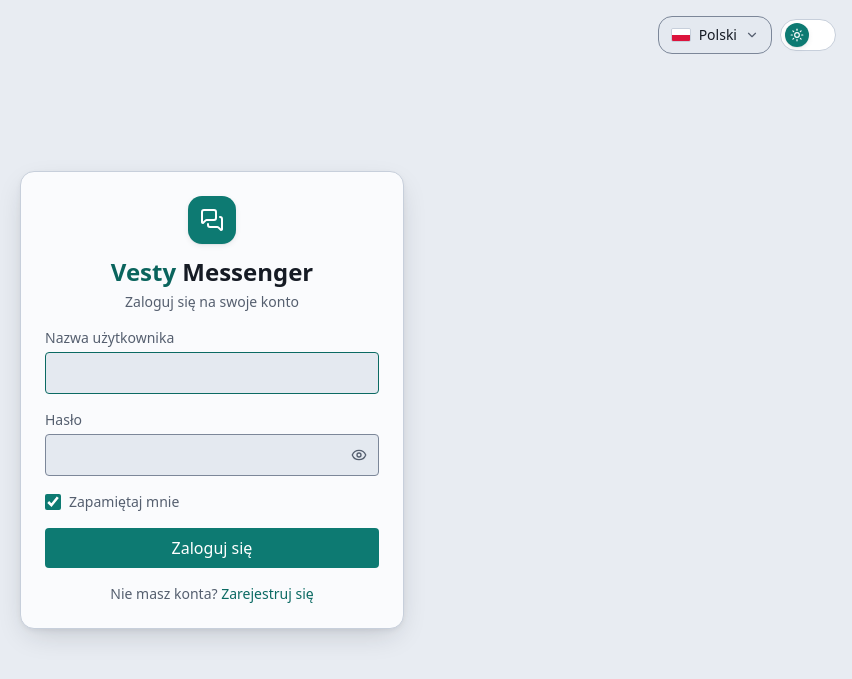
LoginPage › asks for the missing fields in Polish
Step 1. Click the button "Zaloguj się" → (212,548), box [45,528,379,568]
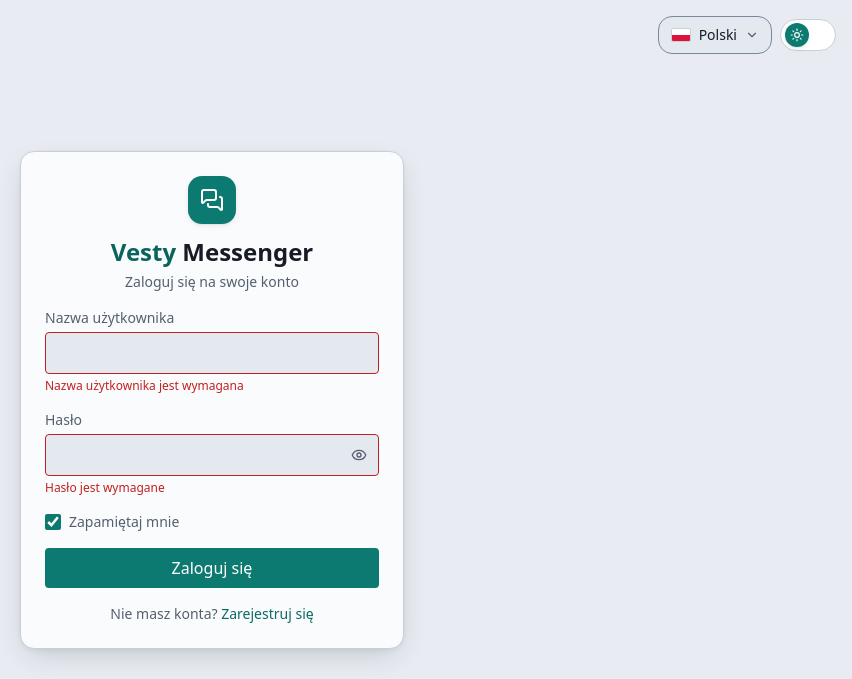
expect the text "Nazwa użytkownika jest wymagana" is shown: met, box [45,377,244,394]
expect the text "Hasło jest wymagane" is shown: met, box [45,479,165,496]
